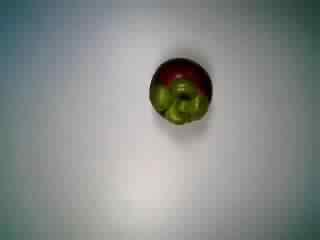mangosteen: (140, 53, 213, 133)
